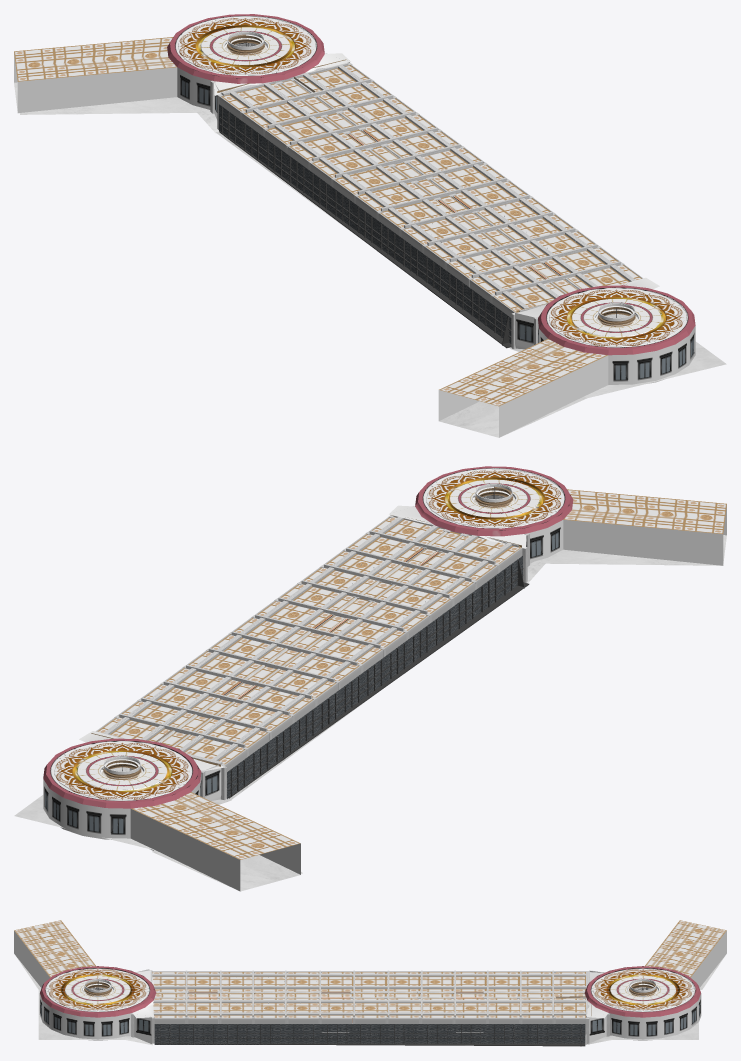
File: safa.fbx
3 views of the same model, one above another, from view 1: azimuth 30°, elevation 25°; view 2: azimuth 150°, elevation 25°; view 3: azimuth 270°, elevation 25° (orthographic). The views are drawn at different scales.
Visible parts, largest first — view 1: Safa_Marwa; view 2: Safa_Marwa; view 3: Safa_Marwa.
Part boxes in pixels (bbox=[...]): Safa_Marwa: bbox=[14, 14, 726, 437]; Safa_Marwa: bbox=[14, 466, 726, 891]; Safa_Marwa: bbox=[14, 920, 726, 1046].
Bounding box in the file's own units: 4663 × 881 × 14117.
